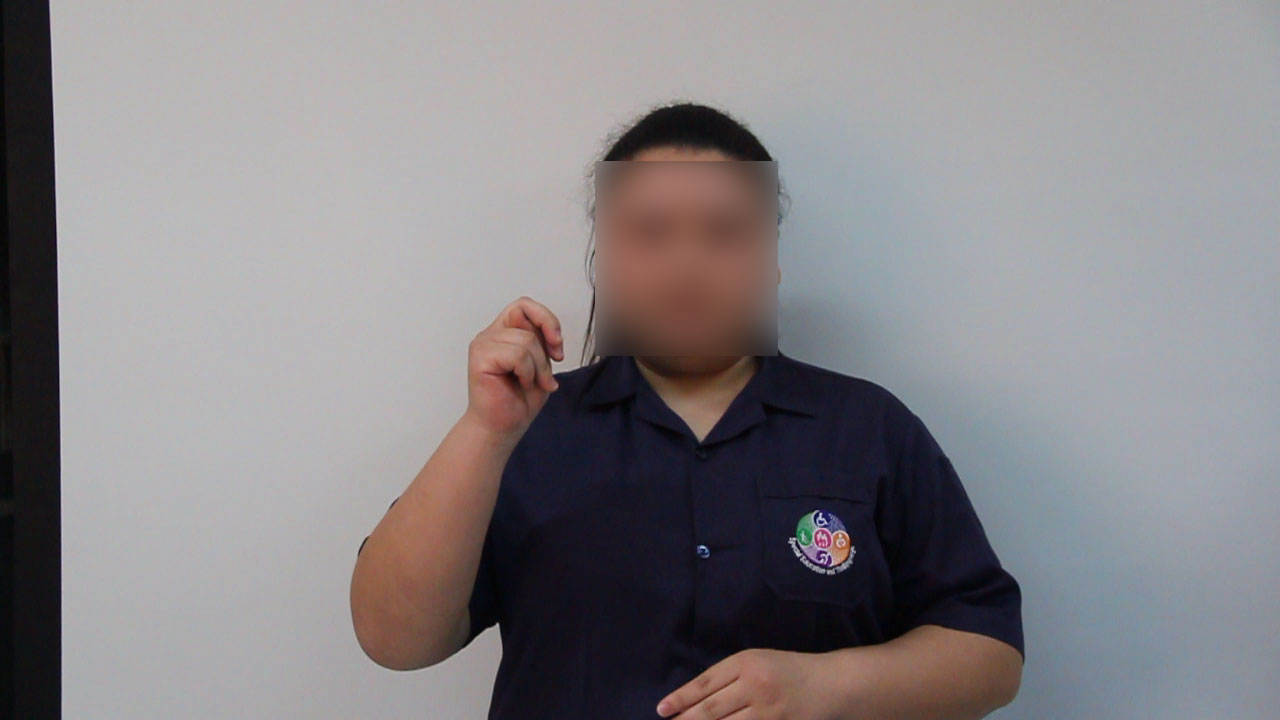nor: (449, 292, 577, 422)
